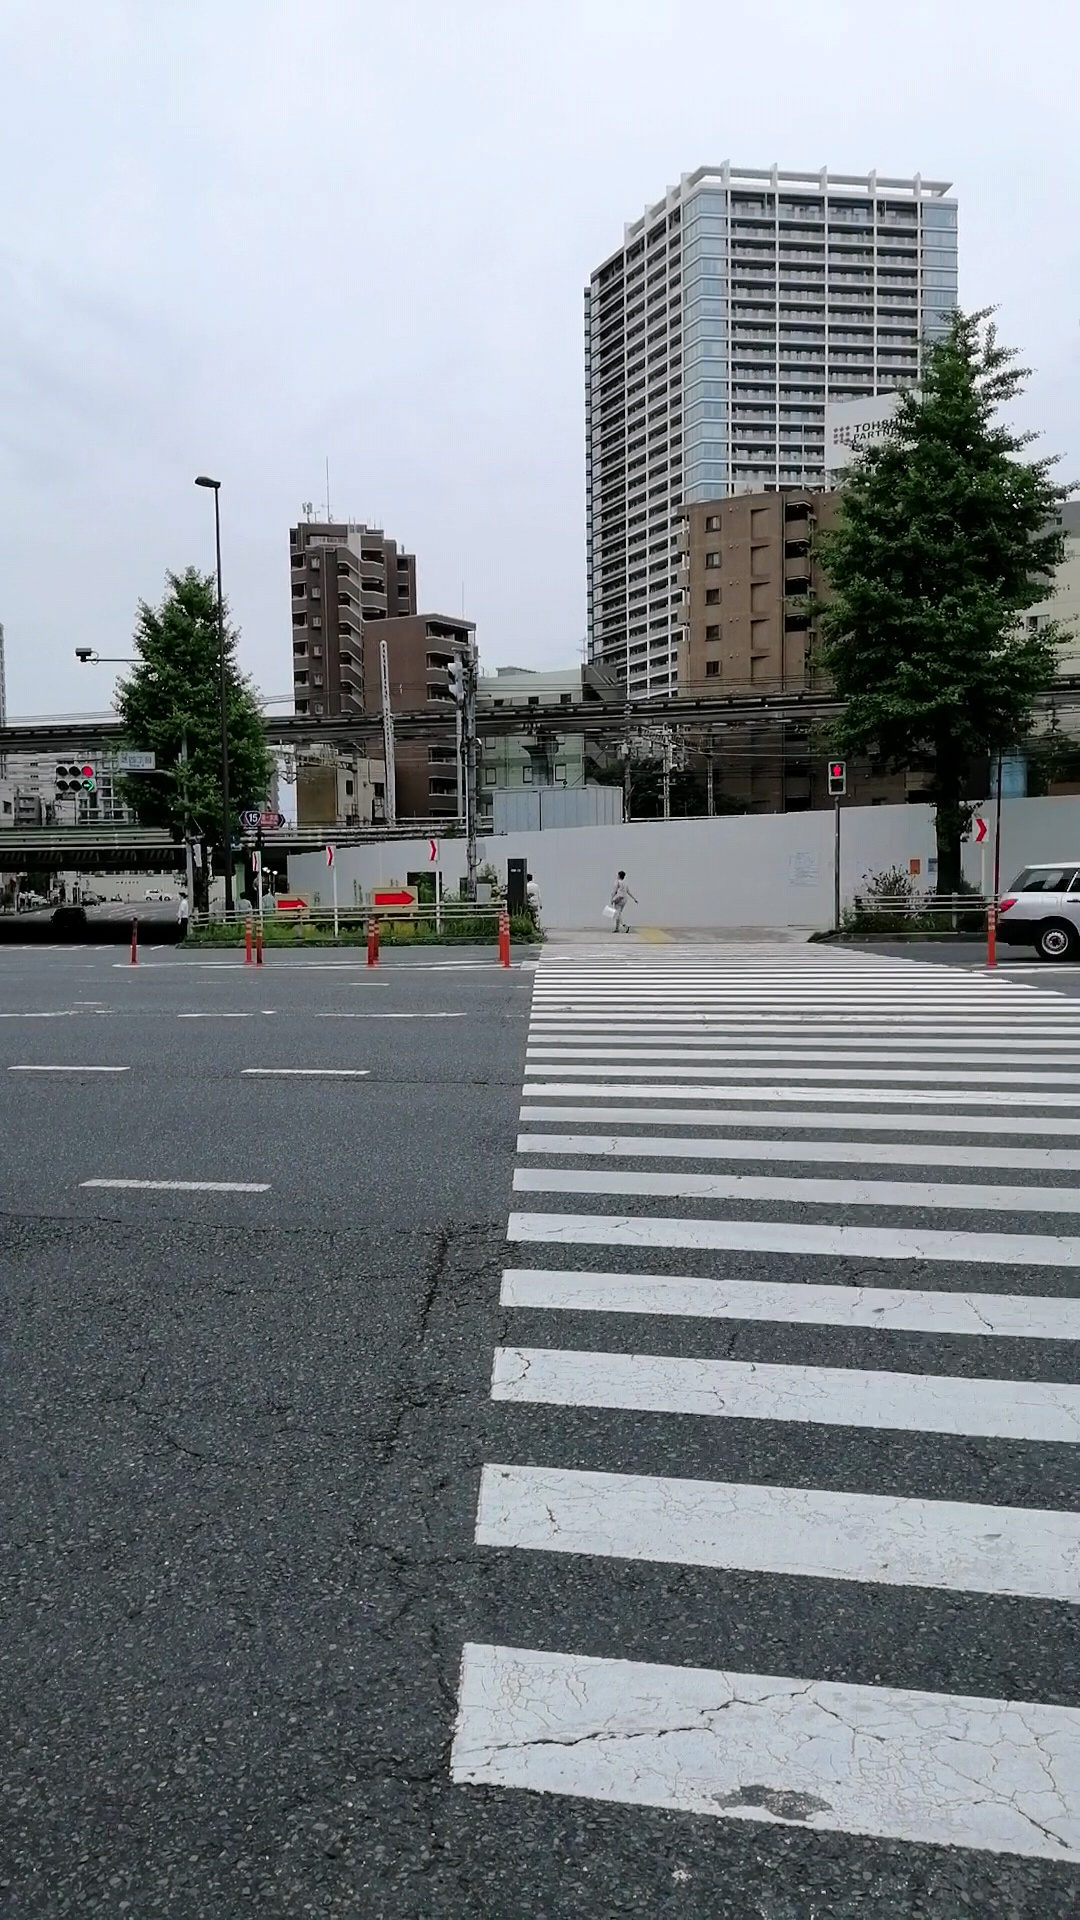red: (825, 760, 847, 794)
